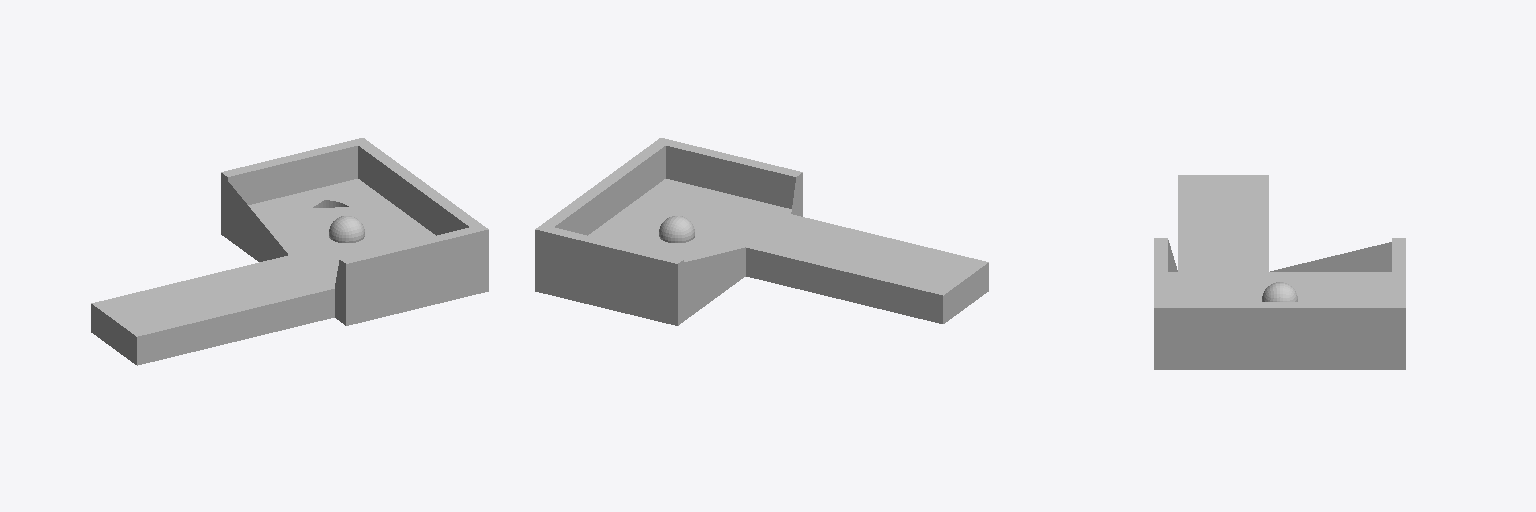
The model's file is lvl10_part2.obj.
3 views of the same model, side by side, from view 1: azimuth 30°, elevation 25°; view 2: azimuth 150°, elevation 25°; view 3: azimuth 270°, elevation 25° (orthographic).
Visible parts, largest first — view 1: Cube, ball; view 2: Cube, ball; view 3: Cube, ball.
Part boxes in pixels (left/top/right/bottom): Cube: left=91, top=138, right=488, bottom=365; ball: left=329, top=216, right=364, bottom=242; Cube: left=535, top=138, right=988, bottom=325; ball: left=659, top=216, right=694, bottom=242; Cube: left=1154, top=175, right=1405, bottom=369; ball: left=1262, top=282, right=1297, bottom=301.
Bounding box in the file's own units: 1.72 × 0.3 × 1.1.